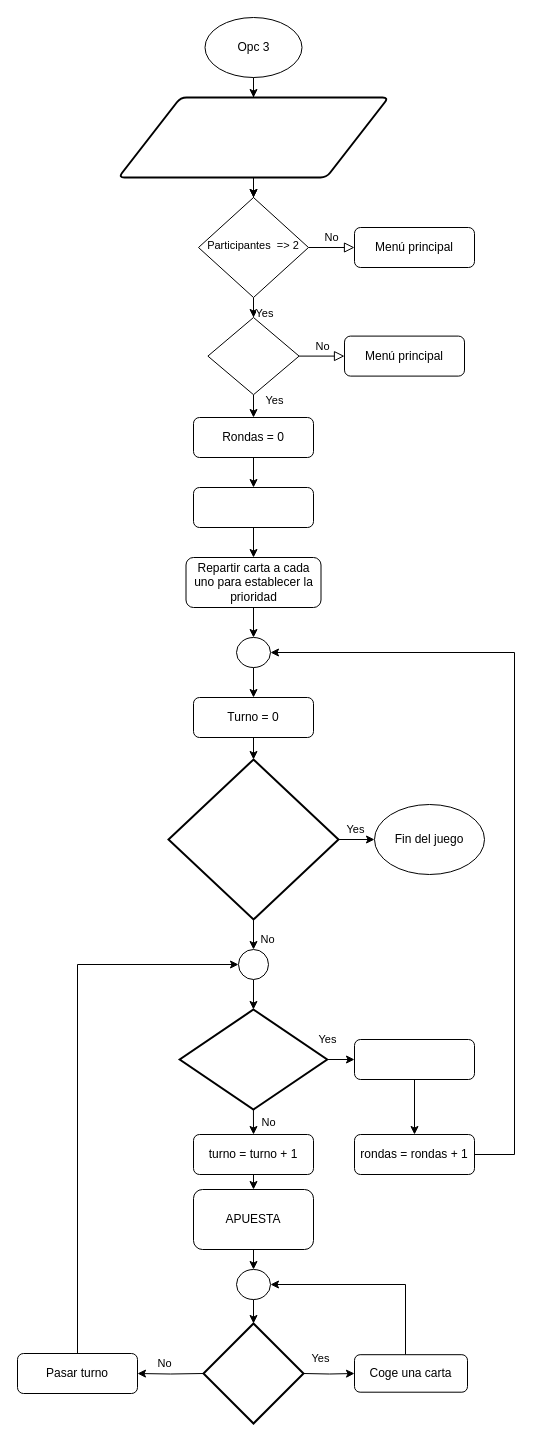
The diagram is 540 pixels wide and 1442 high, and some of its shapes have lost their labels. The shapes that lost their labels are listed below. From the top down, each one's centre as x and y in pixels, then its label:
(253,137): LEER PARTICIPANTES Y BARAJA
(253,355): Baraja = True
(253,507): Puntos = 20
(253,839): Rondas > 30 o participantes - 1 = 0 puntos
(253,1059): turno > participantes - 1
(414,1059): Juega la banca
(253,1373): Coger carta?
